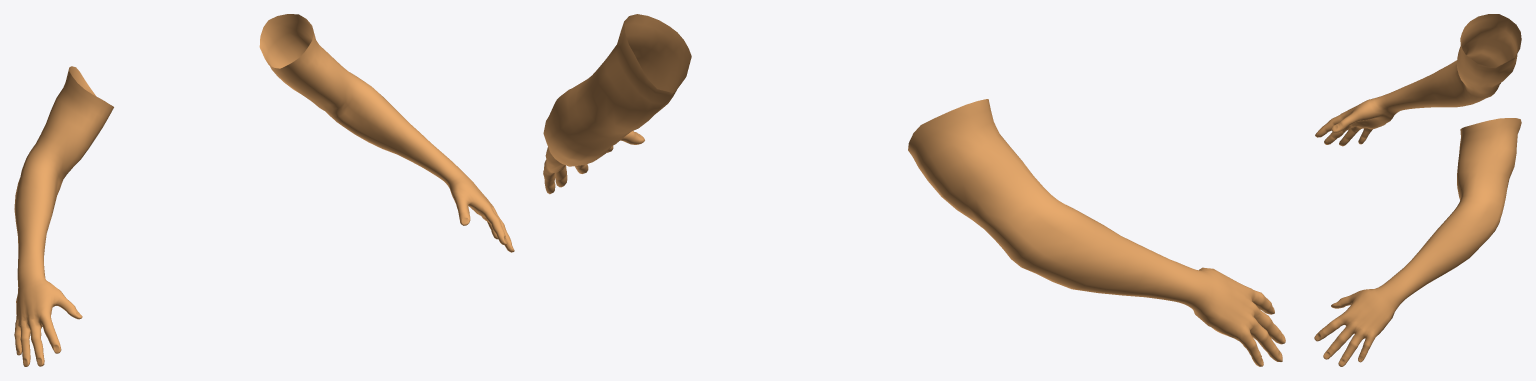
The model's file is fps_right_arm_animated.fbx.
3 views of the same model, side by side, from view 1: azimuth 30°, elevation 25°; view 2: azimuth 150°, elevation 25°; view 3: azimuth 270°, elevation 25° (orthographic). The views are drawn at different scales.
Visible parts, largest first — view 1: basicRig:Body; view 2: basicRig:Body; view 3: basicRig:Body.
Part boxes in pixels (x1,y1,x2,y2): basicRig:Body: [14, 14, 514, 366]; basicRig:Body: [543, 14, 1285, 366]; basicRig:Body: [1314, 14, 1521, 366].
Bounding box in the file's own units: 1117 × 446 × 441.
